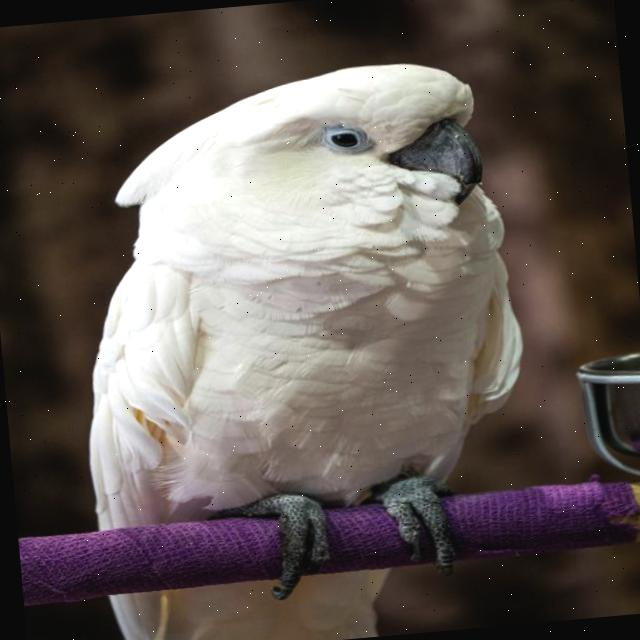Kakatua Putih: (40, 27, 563, 640)
